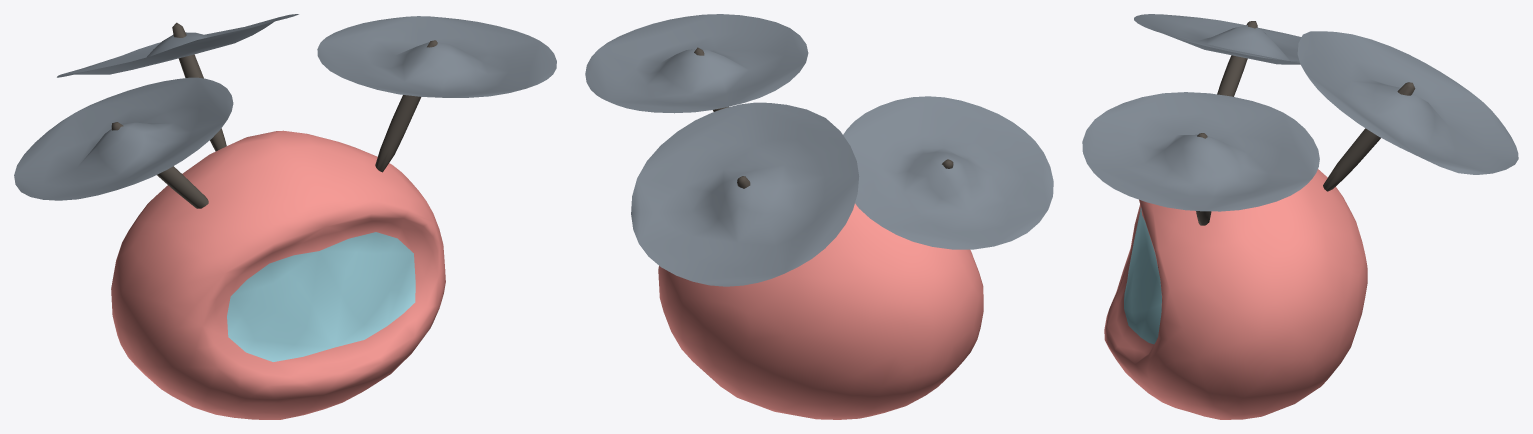
File: drone.glb
3 renders of one model, left to right at view 1: azimuth 30°, elevation 25°; view 2: azimuth 150°, elevation 25°; view 3: azimuth 270°, elevation 25°, orthographic. The views are drawn at different scales.
Parts seen in each view (by area): view 1: drone; view 2: drone; view 3: drone.
Part boxes in pixels (<box>): drone: <box>14,14,556,419</box>; drone: <box>585,14,1053,419</box>; drone: <box>1082,14,1518,419</box>.
Size of what is drawn, in the model's own units: 1.91 by 1.3 by 1.48.
